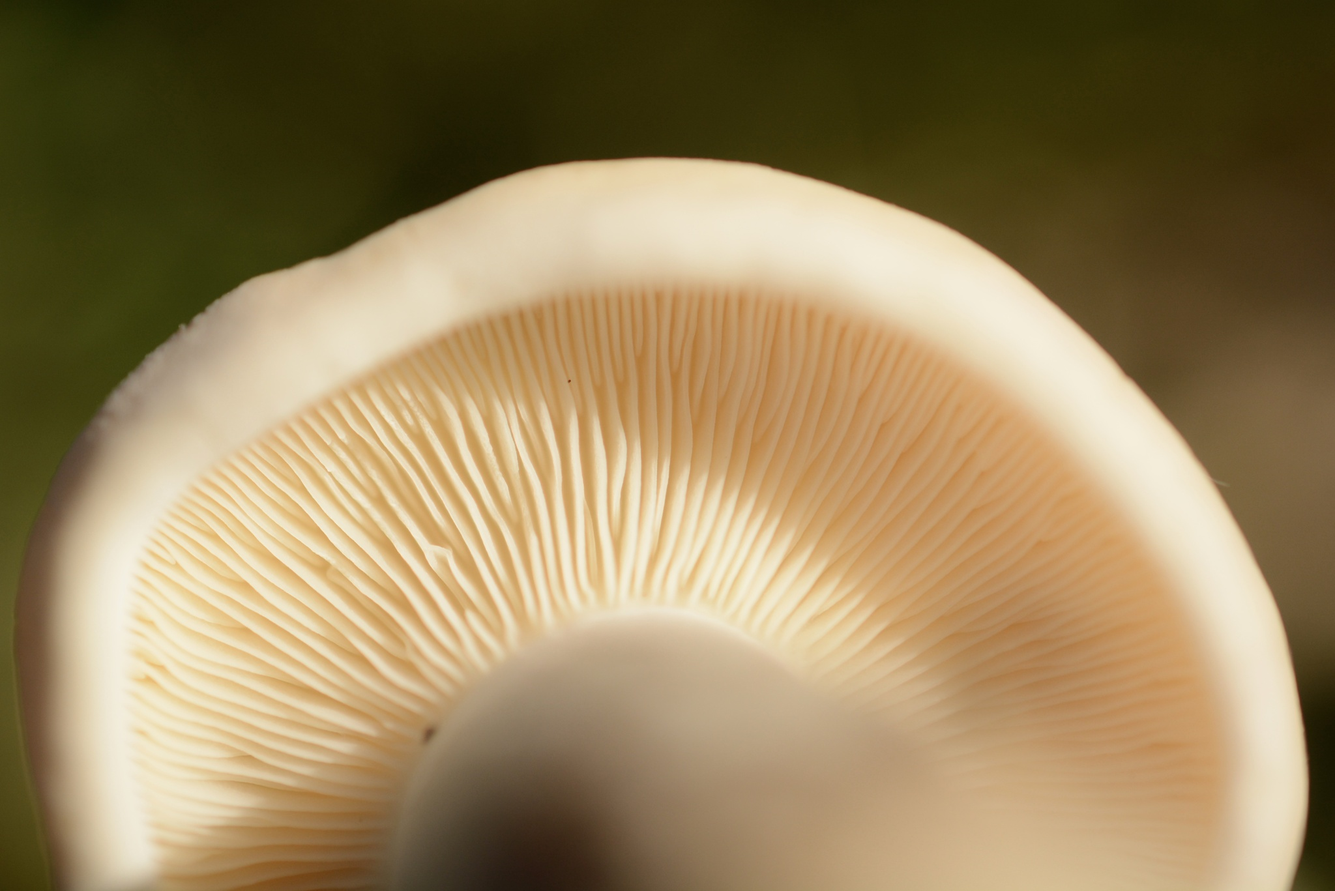stem: (390, 612, 1036, 890)
underside: (127, 286, 1217, 888)
